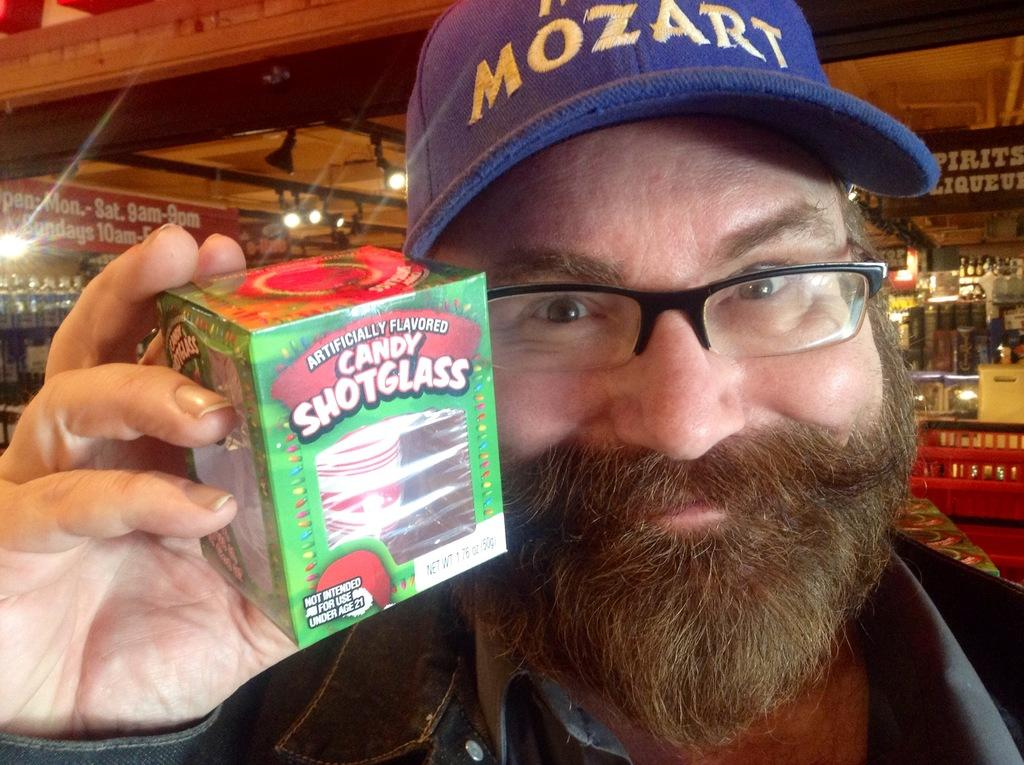Hat: (394, 0, 942, 250)
